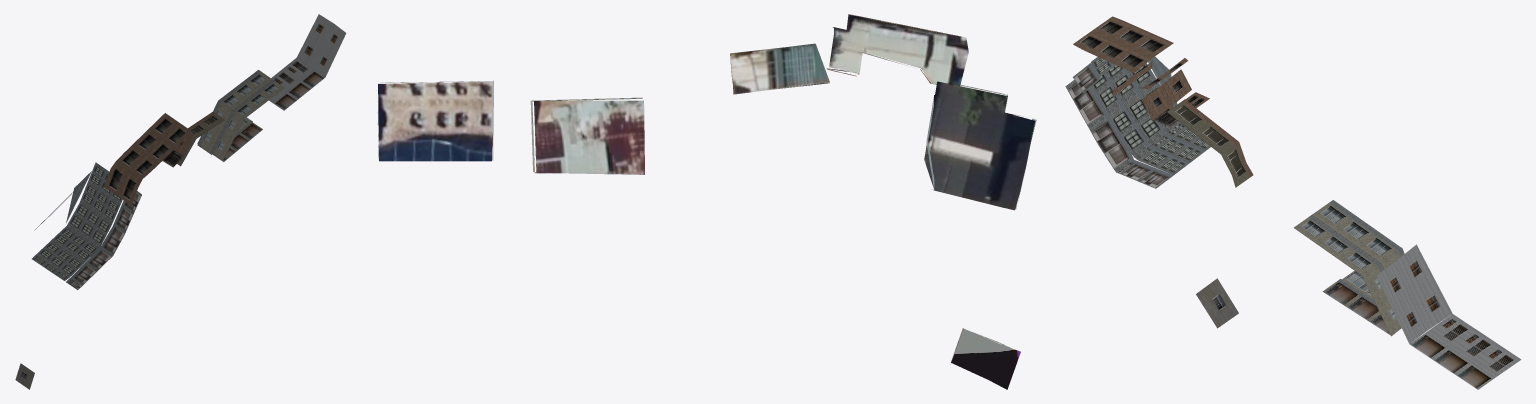
Rendered from tile_LOD4_r14_c6.glb.
3 views of the same model, side by side, from view 1: azimuth 30°, elevation 25°; view 2: azimuth 150°, elevation 25°; view 3: azimuth 270°, elevation 25° (orthographic). The views are drawn at different scales.
Size of the model in its own units: 99.25 by 58 by 63.
Materials: 27 (27 with a texture image).
